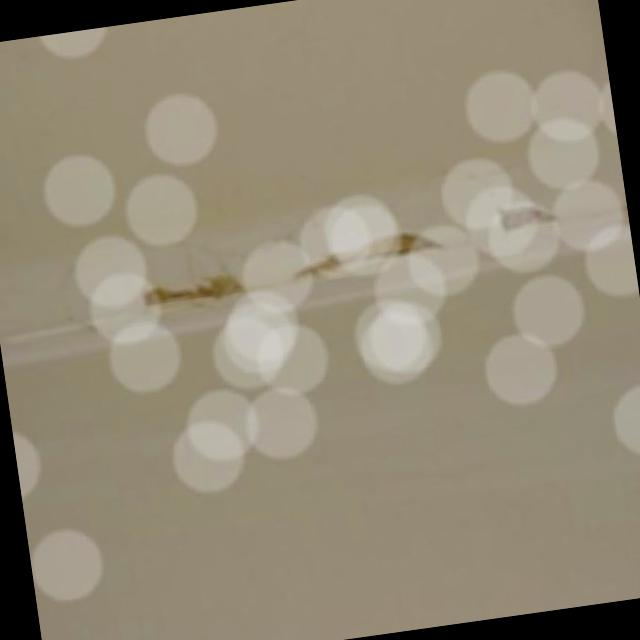crack: (164, 296, 243, 318), (466, 158, 527, 179), (472, 172, 506, 205), (183, 242, 202, 288)
